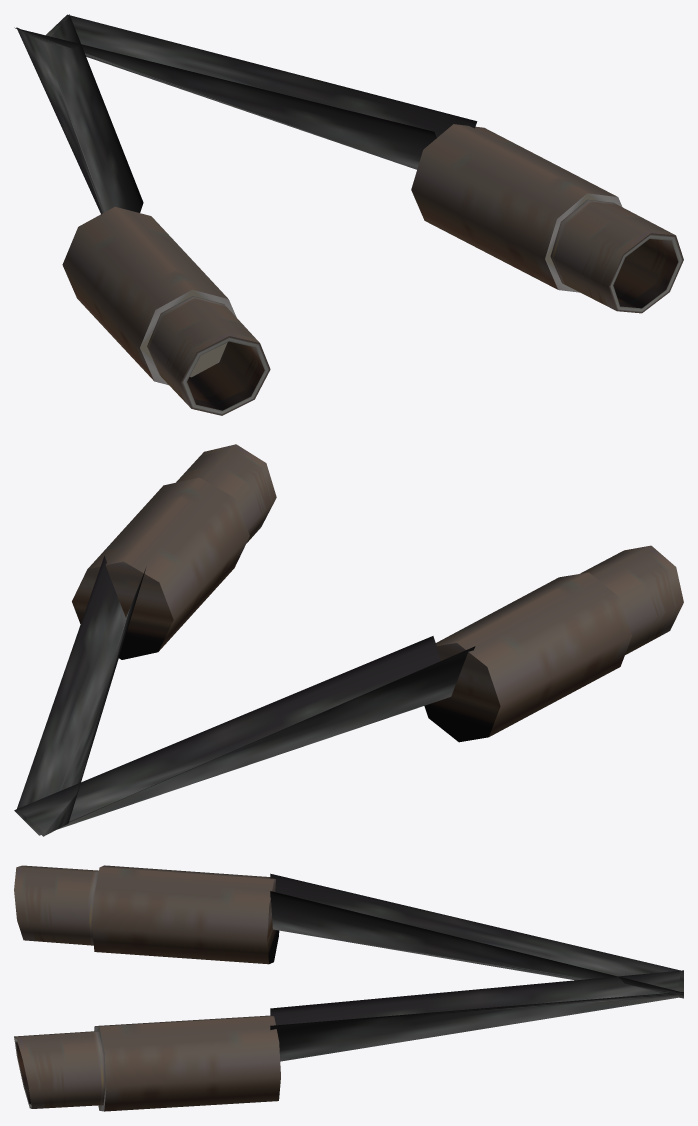
Rendered from exh_a_l.glb.
The picture shows the model from 3 angles, top to bottom: view 1: azimuth 30°, elevation 25°; view 2: azimuth 150°, elevation 25°; view 3: azimuth 270°, elevation 25°; orthographic projection. The views are drawn at different scales.
Visible parts, largest first — view 1: exh_a_l; view 2: exh_a_l; view 3: exh_a_l.
Part boxes in pixels (x1,y1,x2,y2): exh_a_l: (14,14,683,415); exh_a_l: (14,444,683,836); exh_a_l: (14,865,683,1111).
Bounding box in the file's own units: 1.15 × 0.2224 × 1.6.
Materials: 2 (2 with a texture image).
